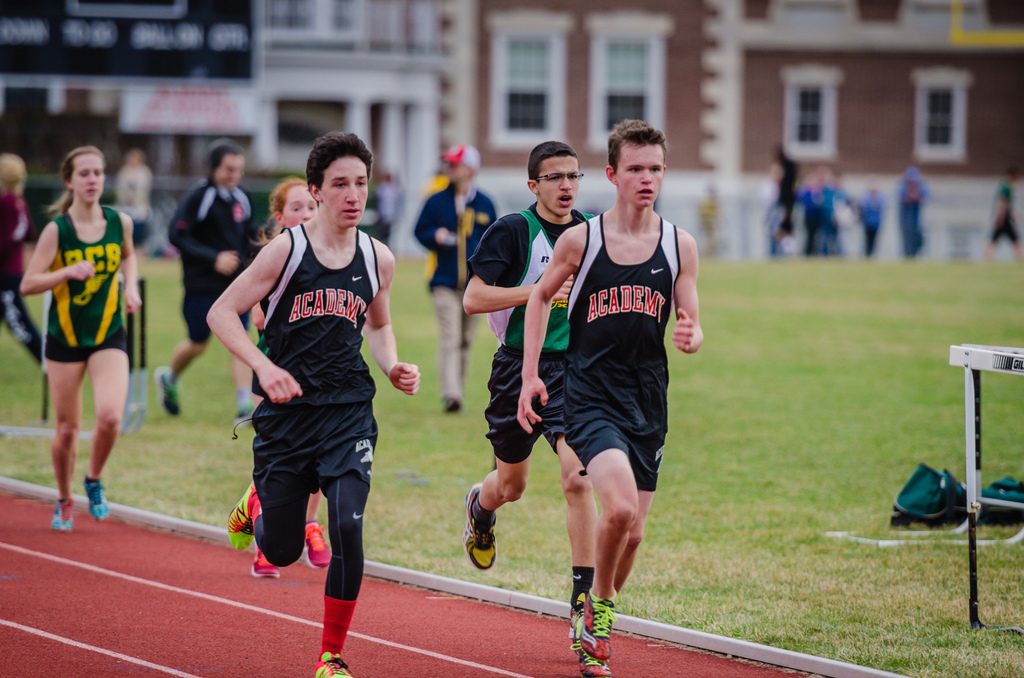Person: (0, 119, 1017, 678)
